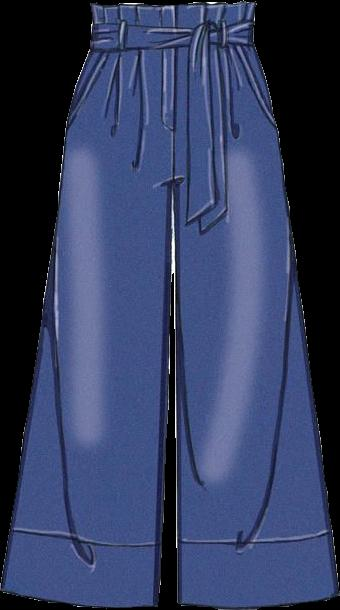Hemline: (0, 584, 159, 609), (175, 591, 339, 609)
Pantleg: (1, 3, 173, 607), (172, 0, 338, 608)
Waistline: (8, 524, 163, 548), (88, 13, 255, 31), (87, 39, 256, 56), (174, 527, 332, 545), (87, 0, 258, 11)
